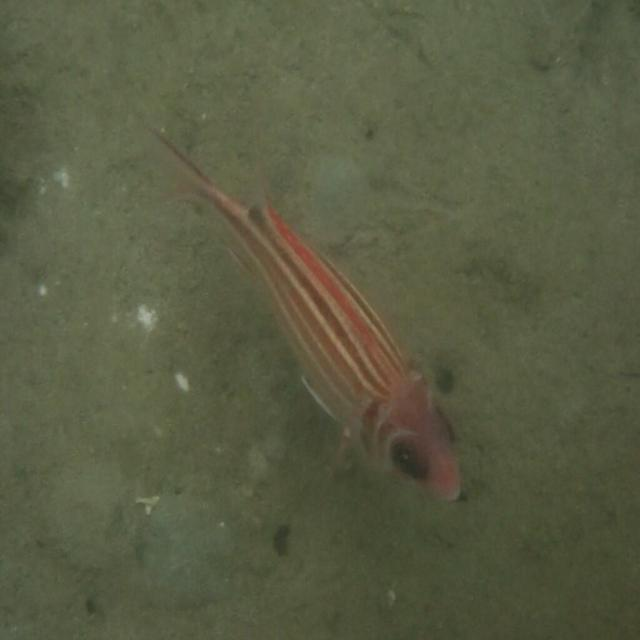Asker Baligi: (147, 123, 465, 505)
